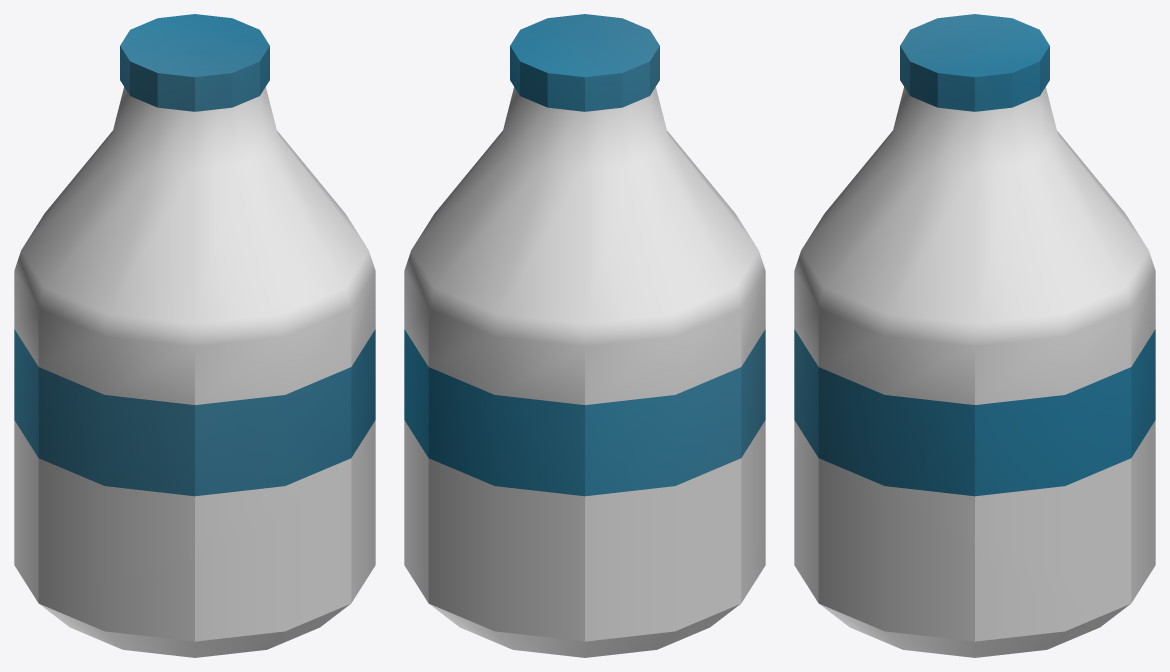
File: Ürün15.fbx
3 renders of one model, left to right at view 1: azimuth 30°, elevation 25°; view 2: azimuth 150°, elevation 25°; view 3: azimuth 270°, elevation 25°, orthographic.
Parts seen in each view (by area): view 1: pCylinder2; view 2: pCylinder2; view 3: pCylinder2.
Part boxes in pixels (<box>): pCylinder2: <box>14,14,375,657</box>; pCylinder2: <box>404,14,765,657</box>; pCylinder2: <box>794,14,1155,657</box>.
Bounding box in the file's own units: 22.2 × 37.39 × 22.2.
